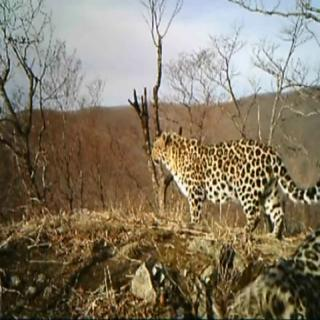Leopard: (147, 128, 320, 231)
